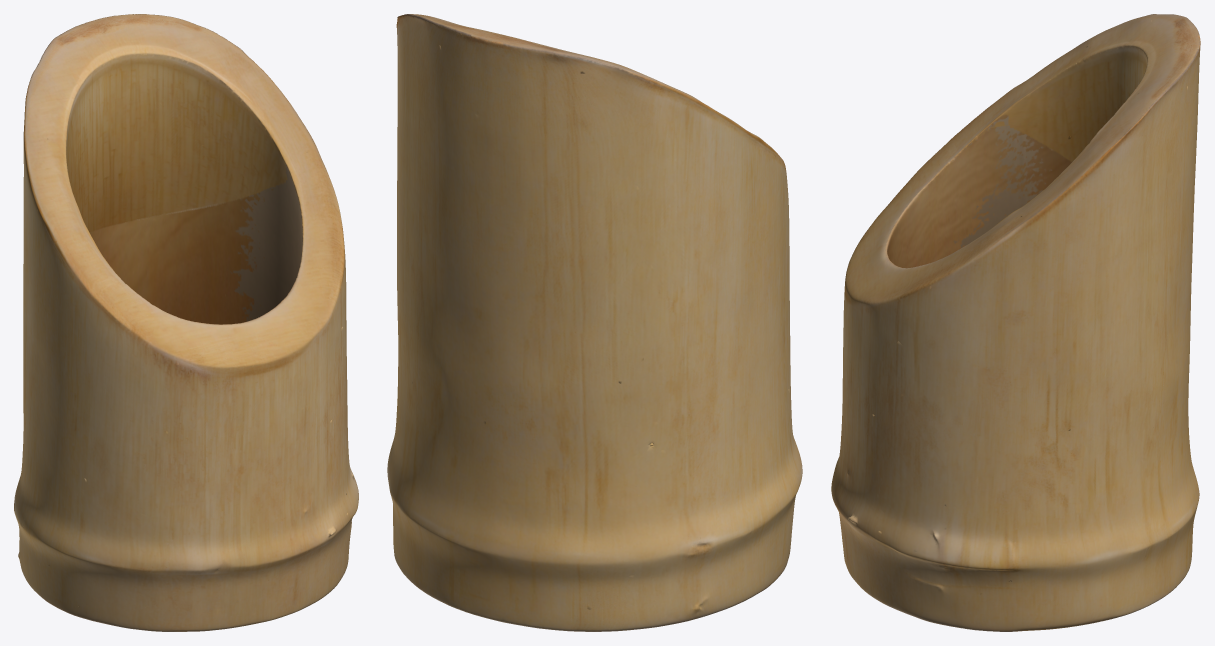
Rendered from option3-3d-model.glb.
The picture shows the model from 3 angles, left to right: view 1: azimuth 30°, elevation 25°; view 2: azimuth 150°, elevation 25°; view 3: azimuth 270°, elevation 25°; orthographic projection. The views are drawn at different scales.
Bounding box in the file's own units: 1.3 × 1.99 × 1.29.
Materials: 1 (1 with a texture image).
